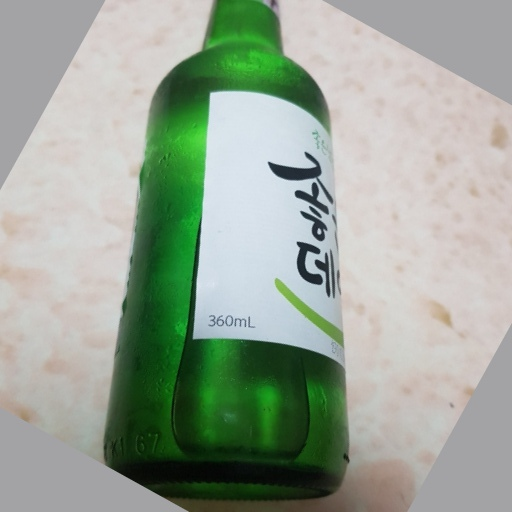Glass_0: (100, 1, 350, 512)
